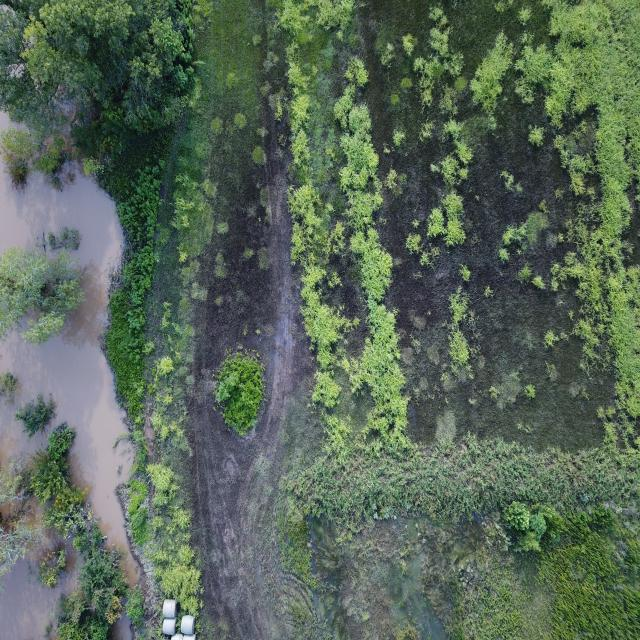fire: (0, 159, 142, 588), (0, 546, 81, 639)
